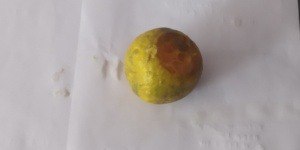BAD: (126, 27, 204, 104)
